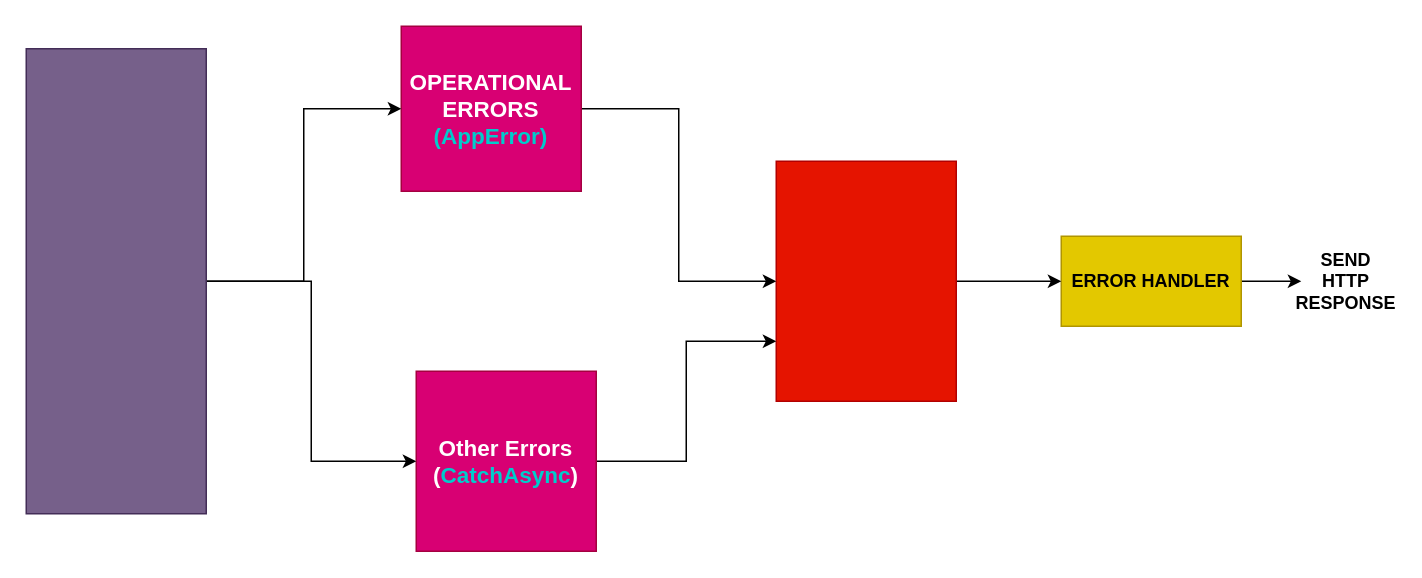
Some shapes in this 1422 by 578 pixel diagram are drawn without their labels. The centre of each missing label's shape, as x and y in pixels:
"CODE" goes at point (115, 280).
"ERRORS next (error )" goes at point (865, 280).
